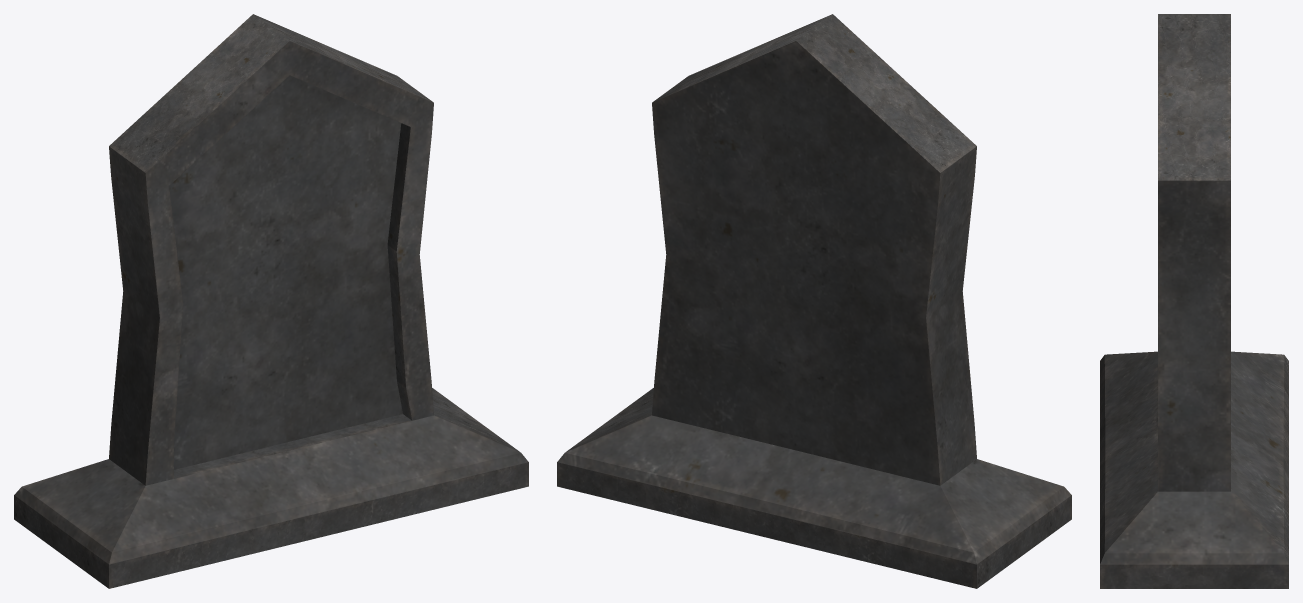
File: tombs_02.fbx
3 views of the same model, side by side, from view 1: azimuth 30°, elevation 25°; view 2: azimuth 150°, elevation 25°; view 3: azimuth 270°, elevation 25° (orthographic).
Visible parts, largest first — view 1: tombs_02; view 2: tombs_02; view 3: tombs_02.
Boxes of the visible parts, x1,y1,x2,y2 form: tombs_02: (14,14,528,588); tombs_02: (557,14,1071,588); tombs_02: (1100,14,1288,588).
Bounding box in the file's own units: 0.1766 × 0.1912 × 0.0692.
Materials: 1 (1 with a texture image).
